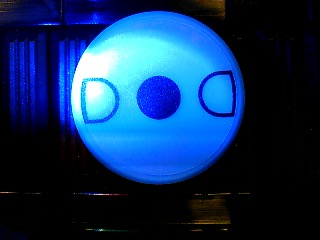BOHOMIPO2: (70, 10, 246, 184)
